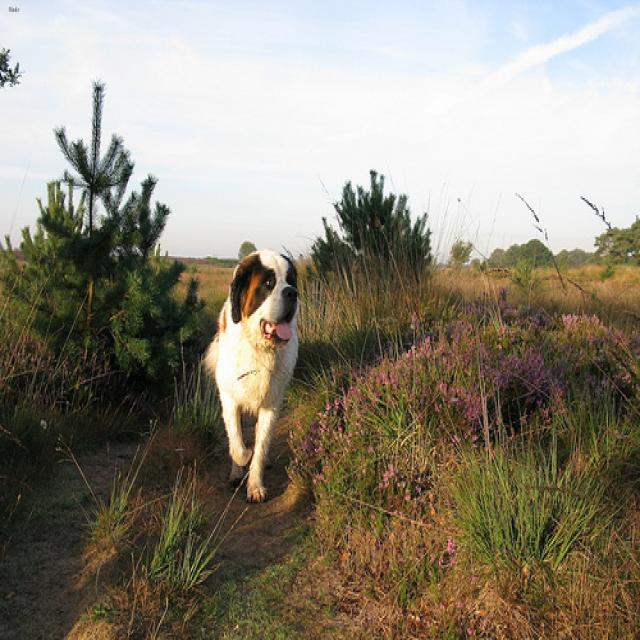dog-saint_bernard: (198, 247, 306, 507)
